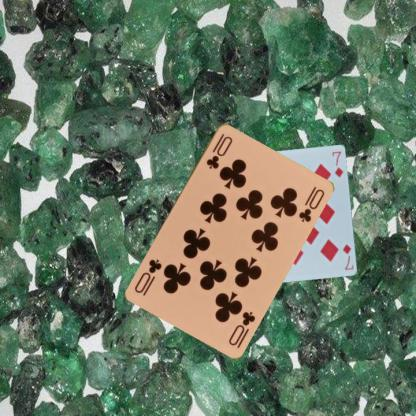10c: (203, 130, 234, 170), (226, 307, 256, 347)
7d: (340, 241, 355, 271)
